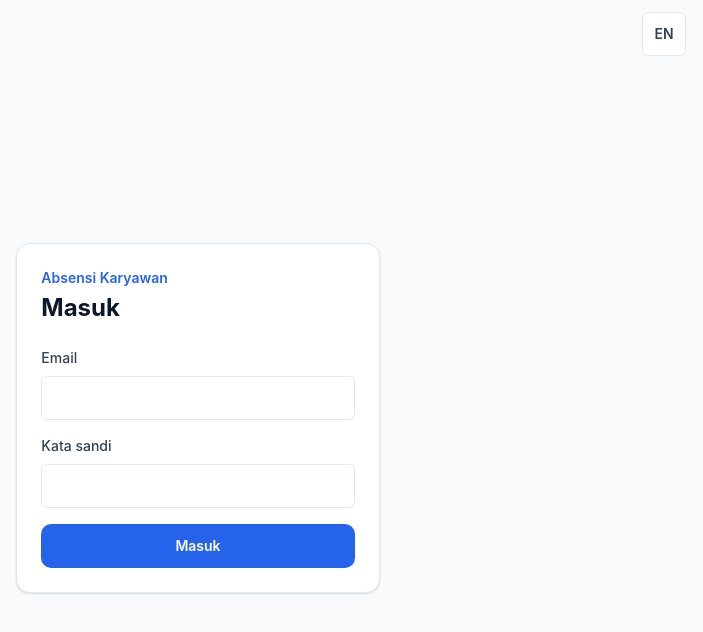
Scenario: LoginPage › omits the attempts line when the server stopped counting them
The width and height of the screenshot is (703, 632).
Type "worker@corp.test" into the field labelled "Email" at (198, 398), box [41, 376, 355, 420]
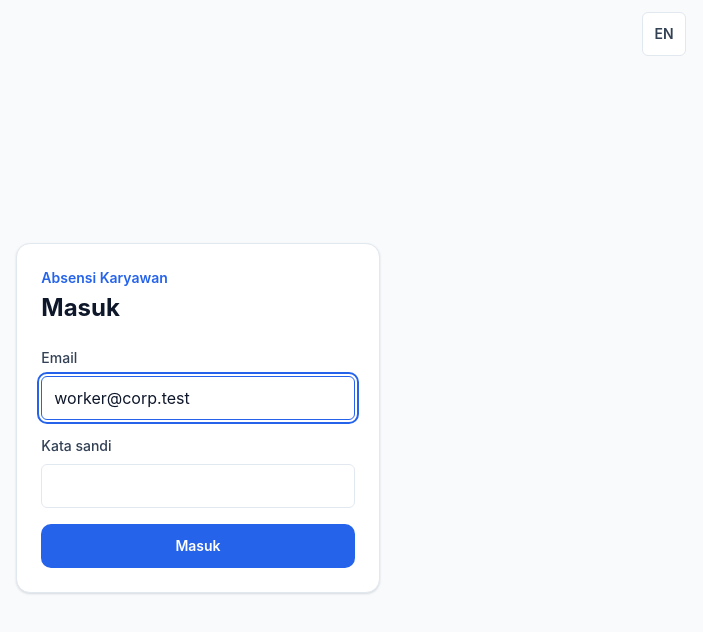
Type "secret-1" into the password field labelled "Kata sandi" at (198, 486), box [41, 464, 355, 508]
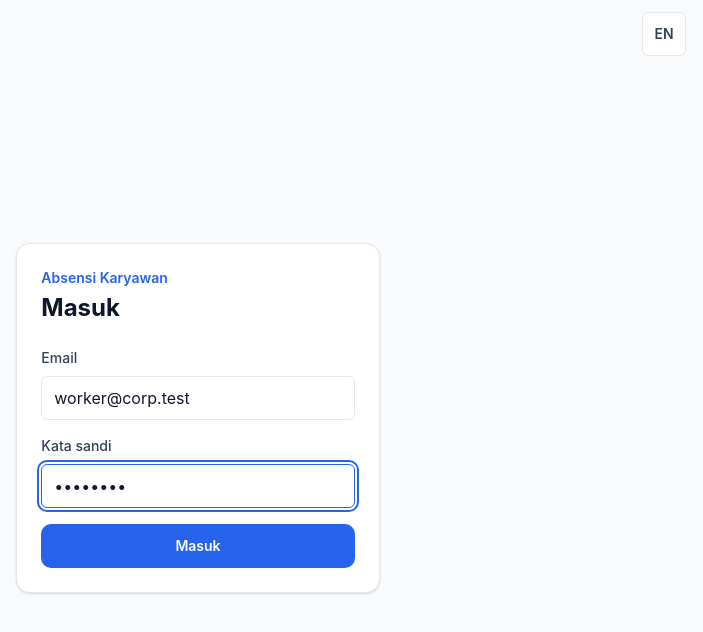
Click the button "Masuk" at (198, 546), box [41, 524, 355, 568]
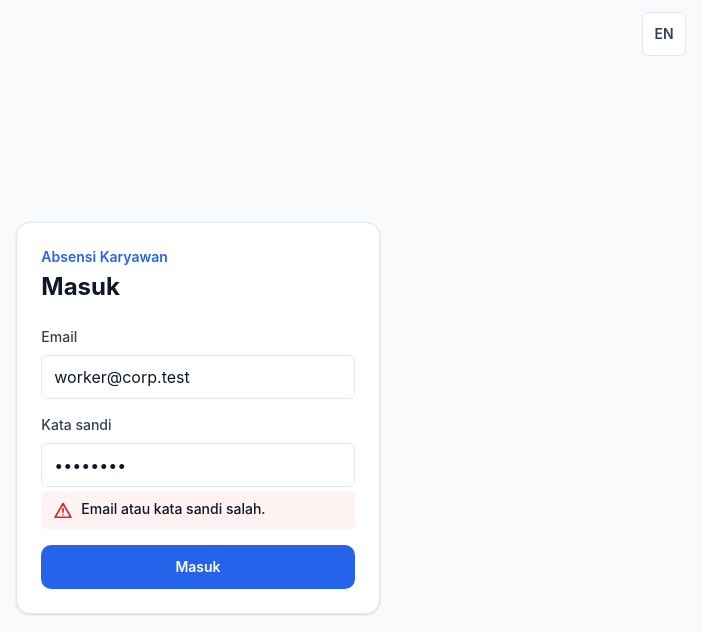
Expected: the message with test id "login-error" reads "Email atau kata sandi salah.", [81, 500, 266, 517]
